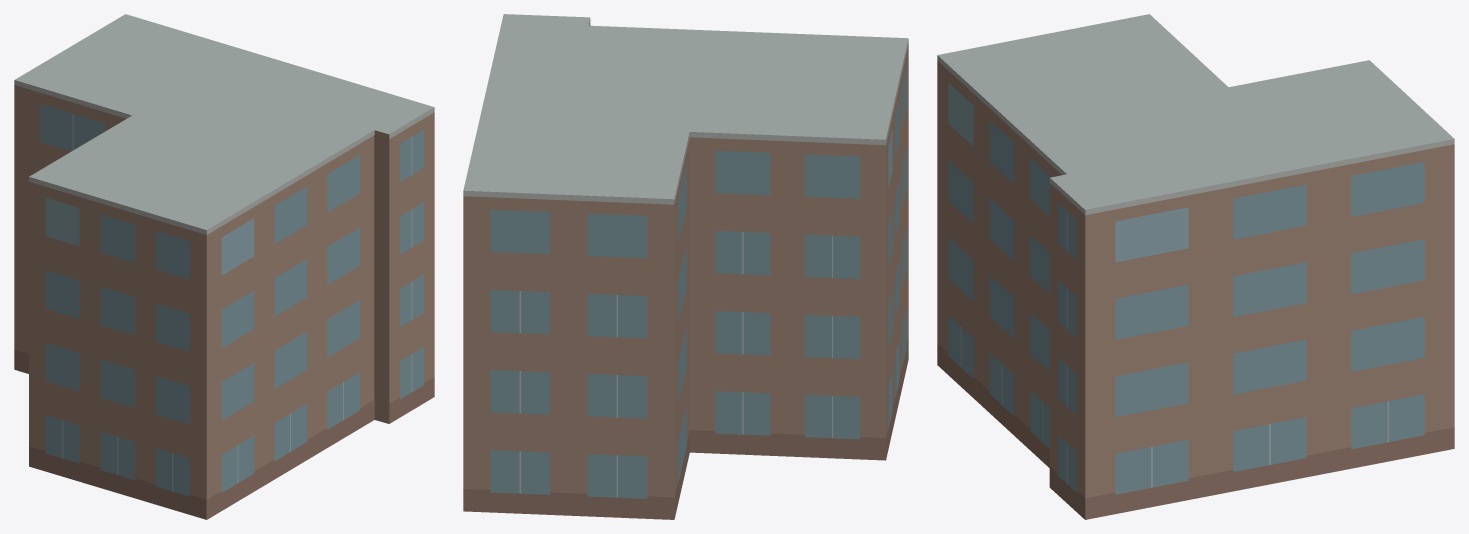
The model's file is survey-upis-32681113.glb.
3 views of the same model, side by side, from view 1: azimuth 30°, elevation 25°; view 2: azimuth 150°, elevation 25°; view 3: azimuth 270°, elevation 25° (orthographic). The views are drawn at different scales.
Parts seen in each view (by area): view 1: survey-upis-32681113.tmp; view 2: survey-upis-32681113.tmp; view 3: survey-upis-32681113.tmp.
Boxes of the visible parts, x1,y1,x2,y2 form: survey-upis-32681113.tmp: [14, 14, 434, 519]; survey-upis-32681113.tmp: [463, 14, 908, 519]; survey-upis-32681113.tmp: [937, 14, 1454, 519].
Bounding box in the file's own units: 19.43 × 14.32 × 21.67.
